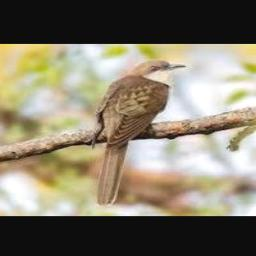Cuckoo: (93, 59, 187, 206)
